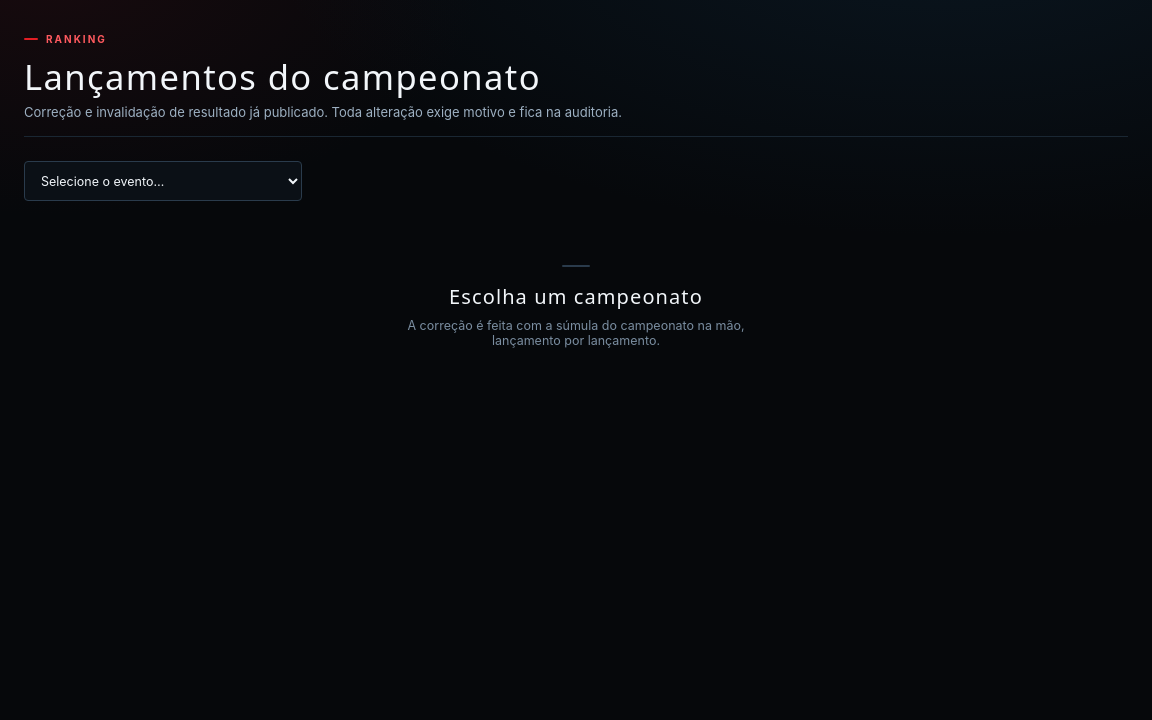
Scenario: a lista de lançamentos › o invalidado CONTINUA na lista, marcado e com o motivo à vista
This screenshot has width=1152, height=720.
Select "Etapa Cuiabá — Resultados publicados" in the dropdown named "selecionar evento" at (163, 181), box 24,161 -> 302,201
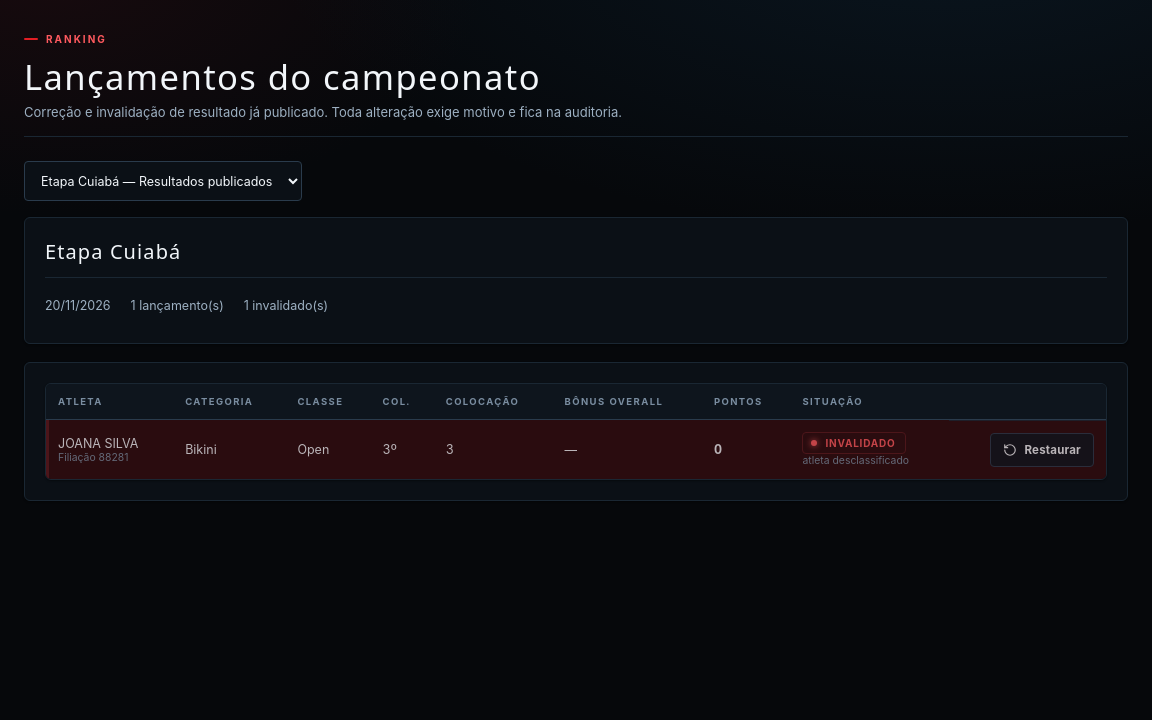
Expected: the text "JOANA SILVA" is shown, 58,436 -> 138,450
Expected: the text "Invalidado" is shown, 802,432 -> 906,454
Expected: the text "atleta desclassificado" is shown, 802,454 -> 909,467
